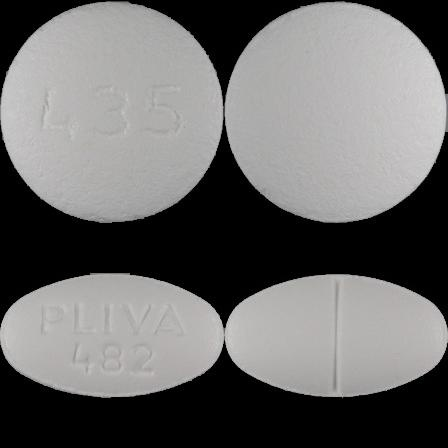68788-0435: (0, 0, 224, 224)
